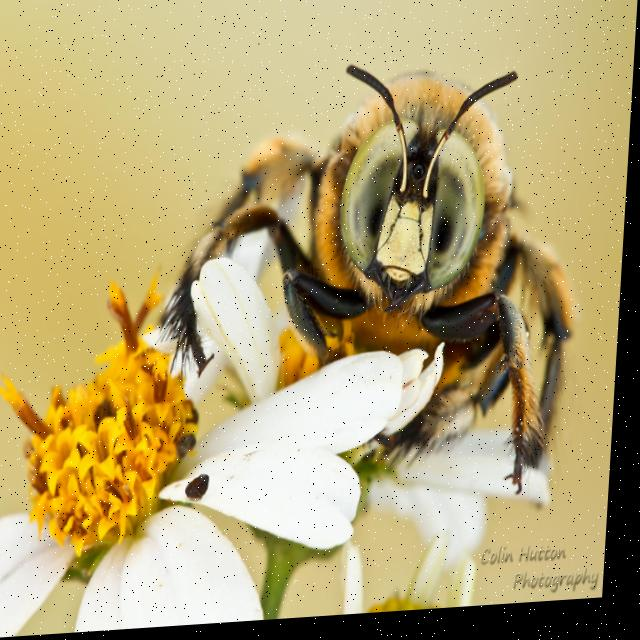Xylocopa: (131, 25, 624, 529)
